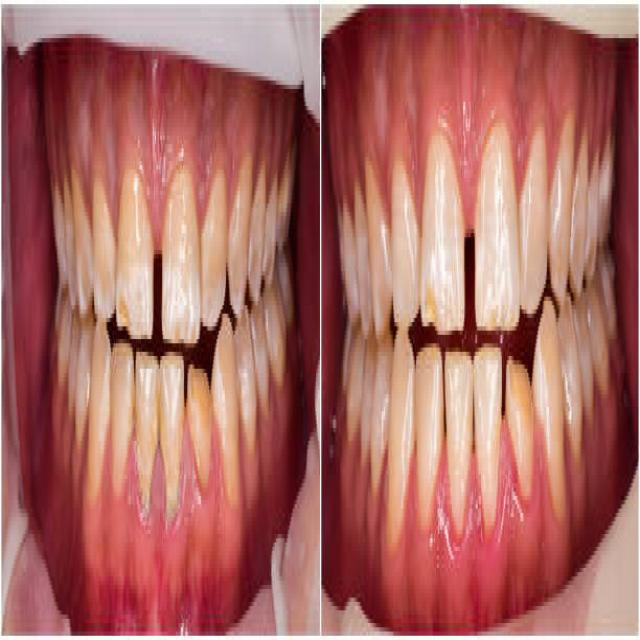caries: (507, 346, 533, 440), (188, 353, 212, 434), (422, 271, 444, 346)
